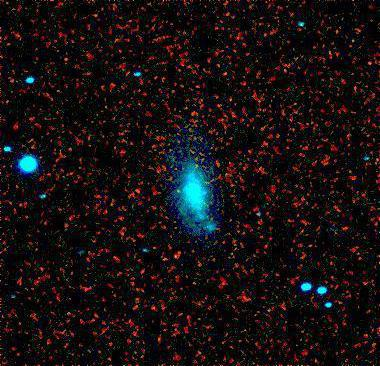star: (162, 178, 192, 208)
